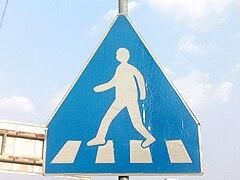Pedestrian Crossing: (22, 15, 217, 175)
